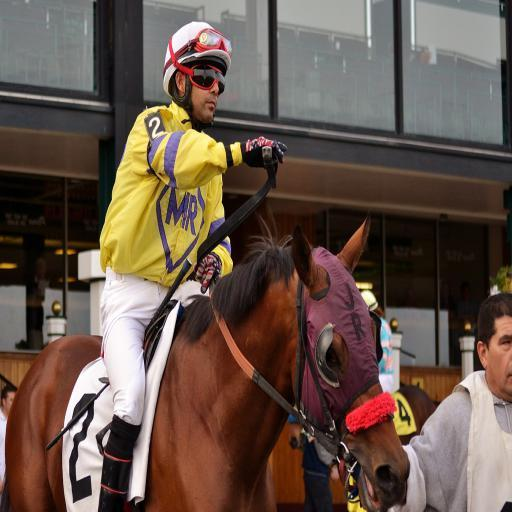horse: (0, 204, 411, 512)
